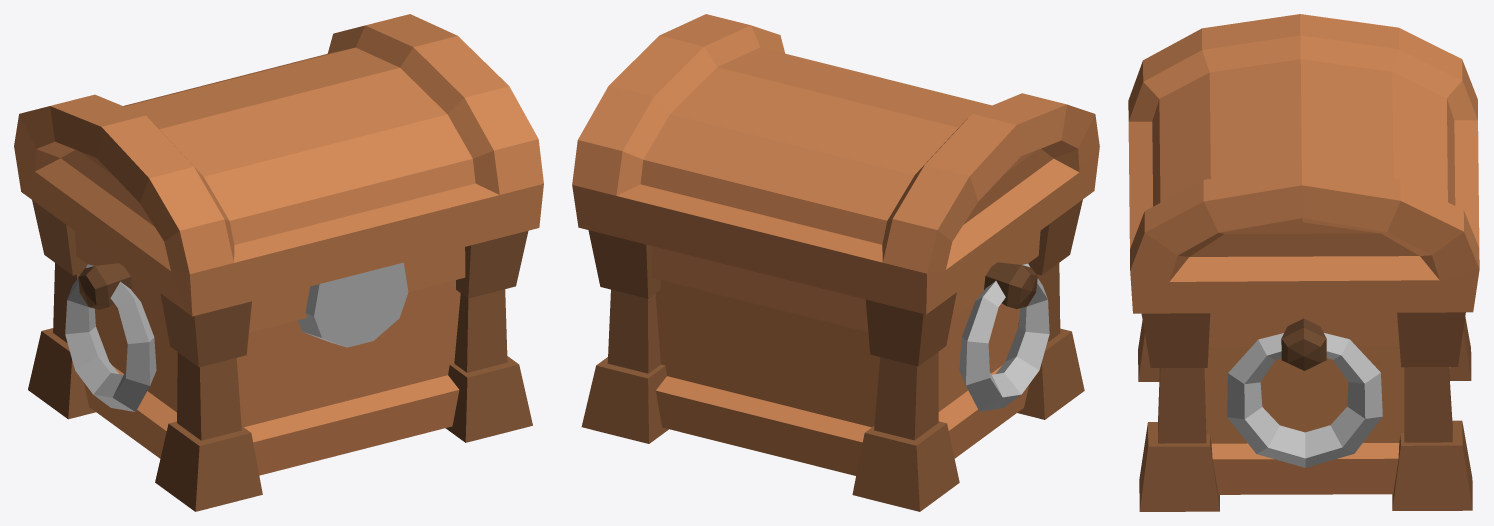
File: chest.fbx
The picture shows the model from 3 angles, left to right: view 1: azimuth 30°, elevation 25°; view 2: azimuth 150°, elevation 25°; view 3: azimuth 270°, elevation 25°; orthographic projection.
Visible parts, largest first — view 1: chest; view 2: chest; view 3: chest.
Part boxes in pixels (x1=…): chest: x1=14, y1=14, x2=543, y2=511; chest: x1=572, y1=14, x2=1099, y2=511; chest: x1=1128, y1=14, x2=1479, y2=511.
Size of the model in its own units: 122 by 98.52 by 94.29.
1 material, 1 textured.
